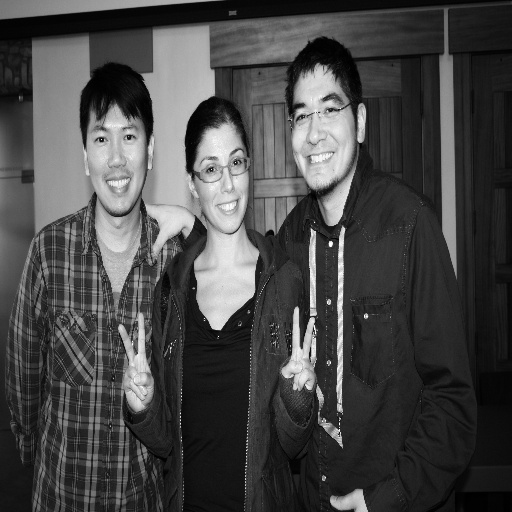hand: (117, 311, 153, 415), (287, 322, 318, 413), (144, 201, 188, 262), (328, 489, 369, 511)
